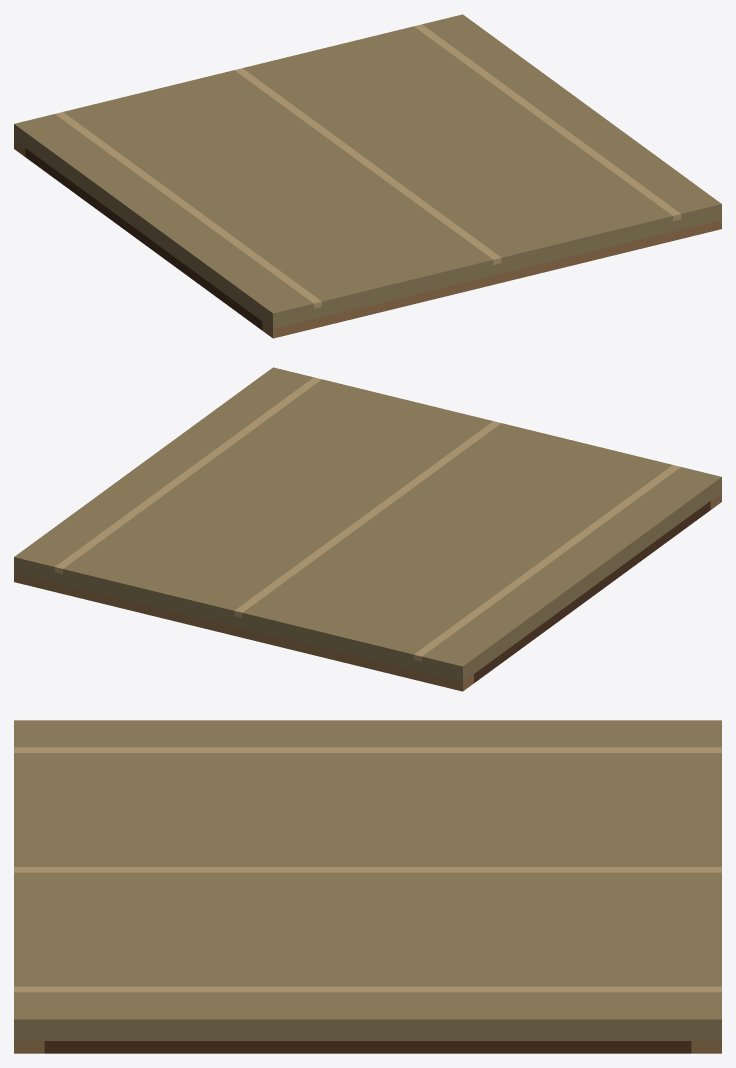
Rendered from roof.glb.
The picture shows the model from 3 angles, top to bottom: view 1: azimuth 30°, elevation 25°; view 2: azimuth 150°, elevation 25°; view 3: azimuth 270°, elevation 25°; orthographic projection. The views are drawn at different scales.
Parts seen in each view (by area): view 1: roof; view 2: roof; view 3: roof.
Boxes of the visible parts, x1,y1,x2,y2 form: roof: (14,14,721,338); roof: (14,367,721,691); roof: (14,720,721,1053).
Bounding box in the file's own units: 3 × 0.16 × 3.
